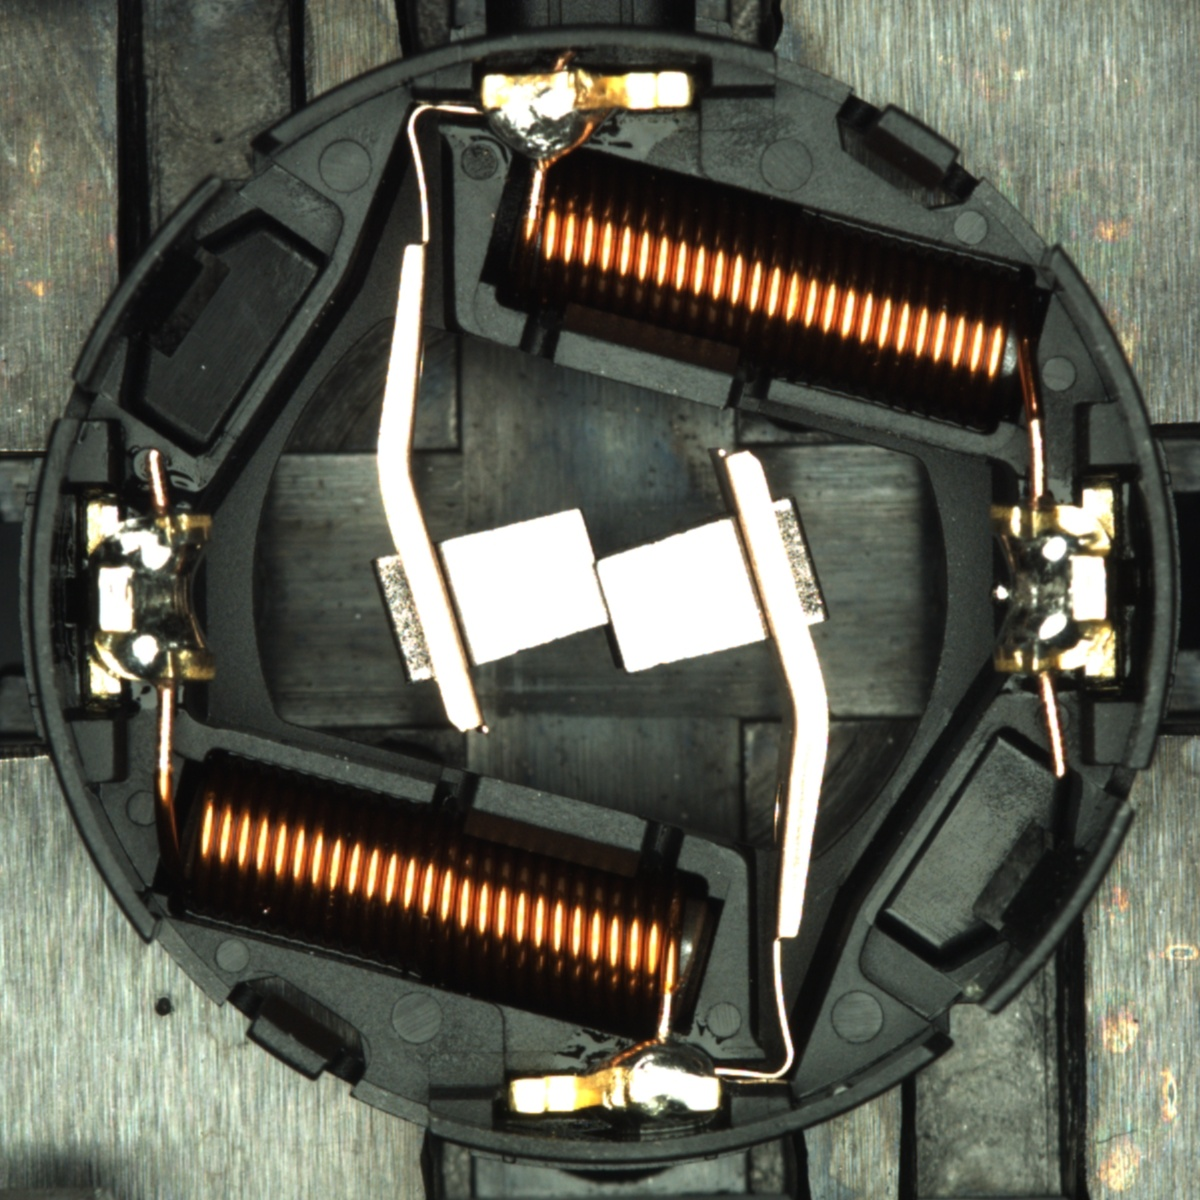1: (254, 30, 482, 254), (712, 927, 941, 1152)
2: (712, 30, 941, 254), (254, 927, 482, 1152)
3: (24, 254, 254, 478), (941, 703, 1170, 927)
4: (254, 254, 482, 478), (712, 703, 941, 927)
5: (482, 142, 712, 366), (482, 815, 712, 1040)
6: (712, 254, 941, 478), (254, 703, 482, 927)
7: (941, 254, 1170, 478), (24, 703, 254, 927)
bui_chi: (990, 582, 1012, 604)
cacbon: (396, 497, 799, 685)
chau_dien: (79, 497, 220, 698), (984, 486, 1123, 684)
tay_choi: (480, 69, 697, 170), (509, 1029, 722, 1121)
thanh_de: (955, 787, 1143, 1031), (59, 165, 243, 403)
